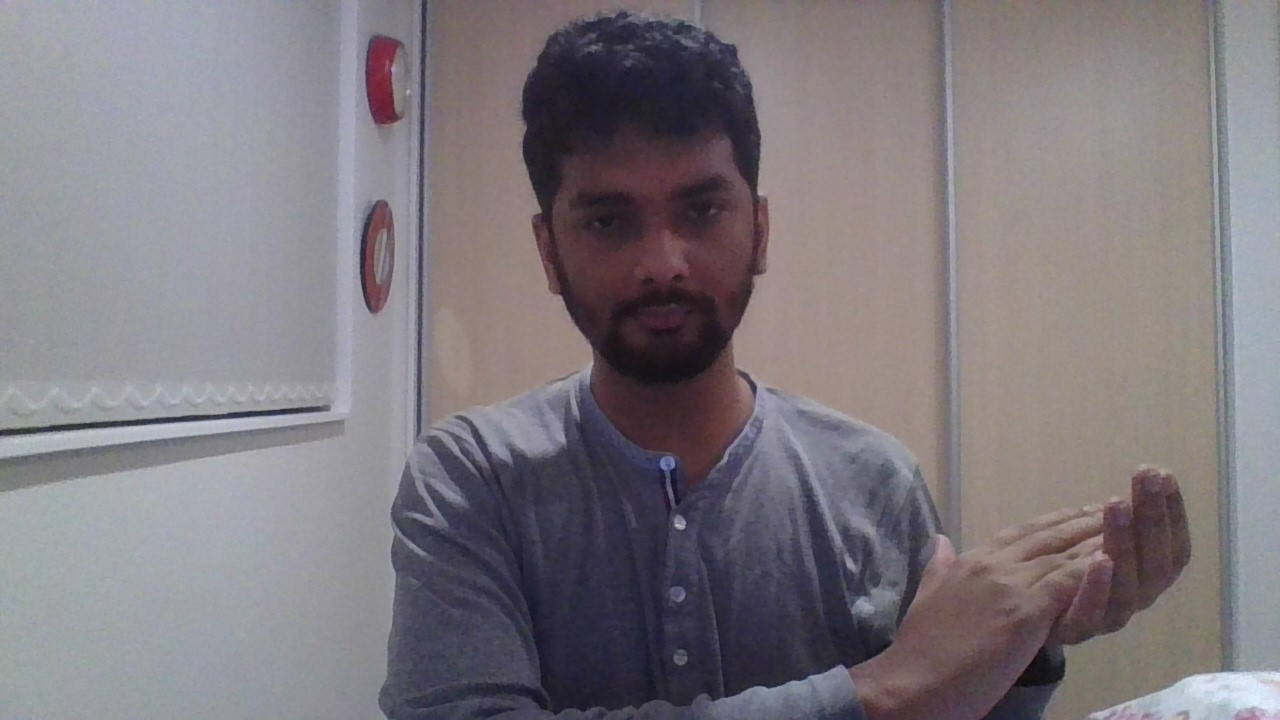clear: (883, 462, 1196, 720)
